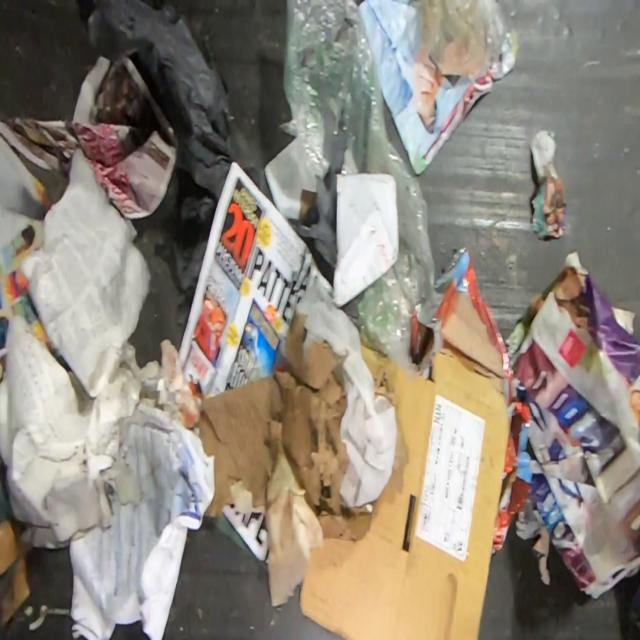cardboard: (298, 344, 511, 639)
soft_plastic: (278, 0, 436, 352), (86, 0, 238, 351), (408, 0, 508, 79)
